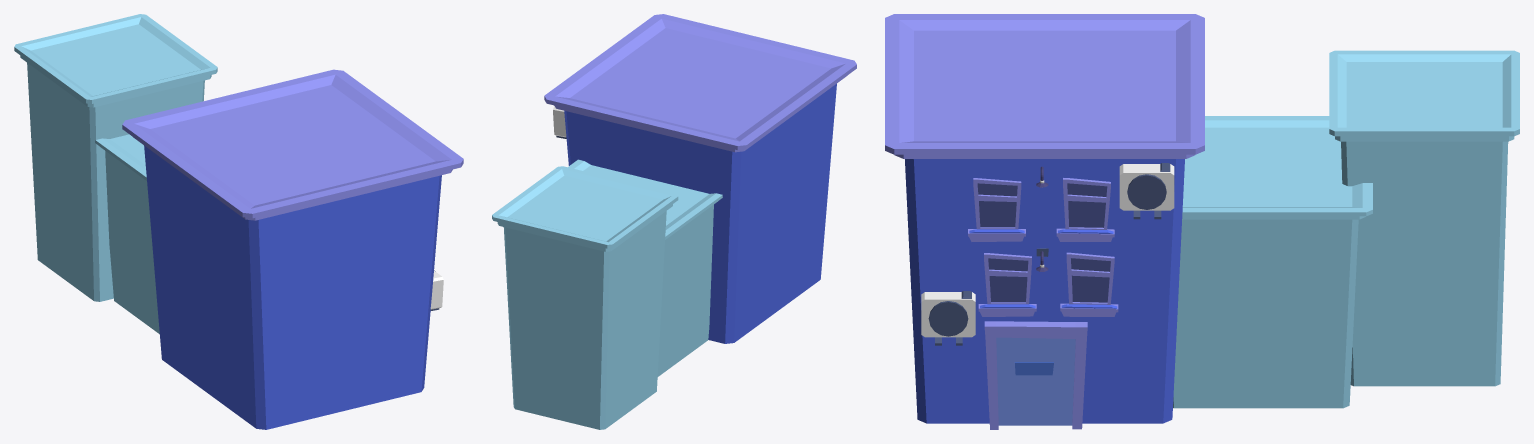
Rendered from building 1.fbx.
3 views of the same model, side by side, from view 1: azimuth 30°, elevation 25°; view 2: azimuth 150°, elevation 25°; view 3: azimuth 270°, elevation 25° (orthographic). The views are drawn at different scales.
Parts seen in each view (by area): view 1: Cube; view 2: Cube; view 3: Cube.
Boxes of the visible parts, <box> form: Cube: <box>14,14,463,429</box>; Cube: <box>492,14,856,429</box>; Cube: <box>885,14,1519,429</box>.
Size of the model in its own units: 4248 by 4260 by 8389.
